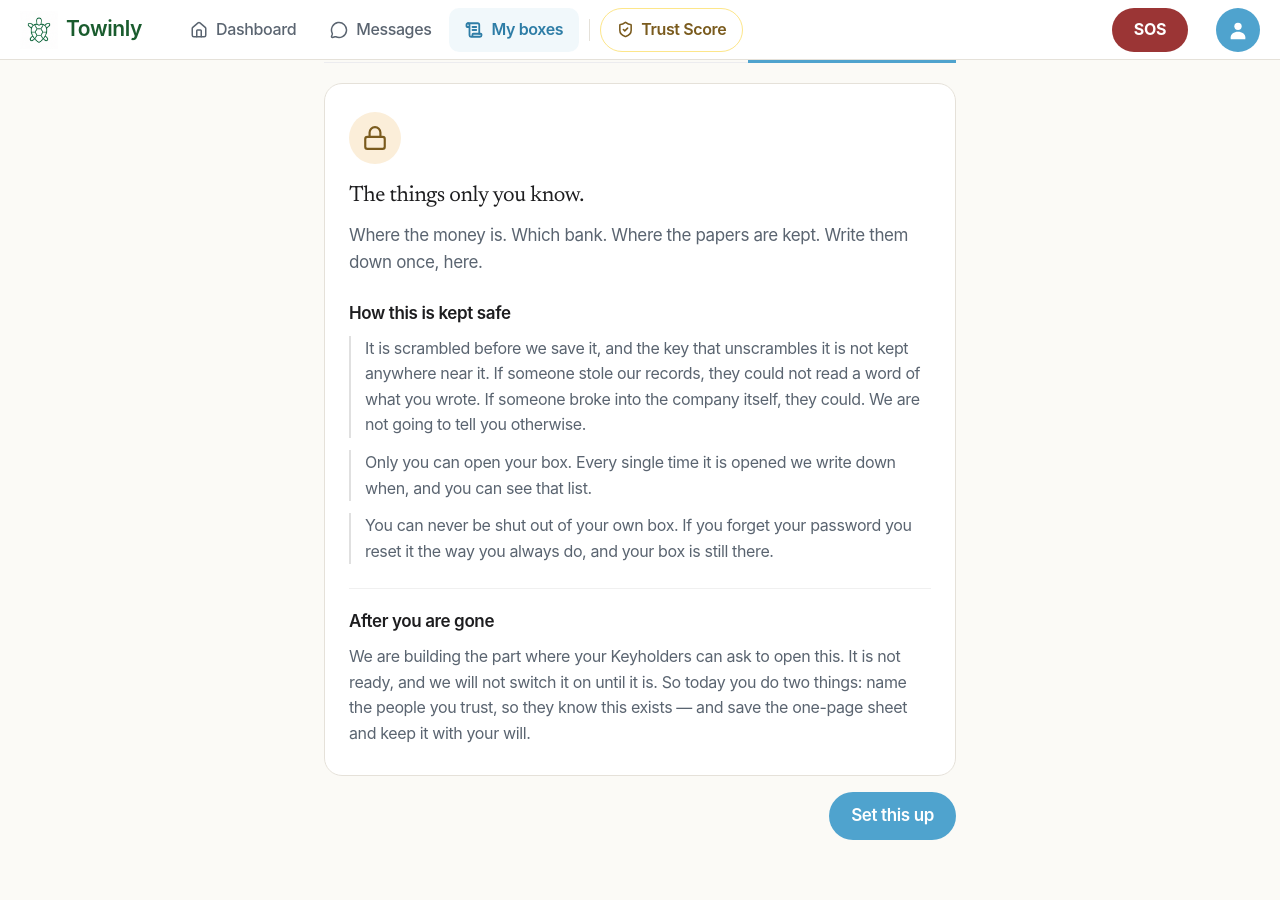
Test: setting the Sealed box up › says the number back to her in real names, and never as an example
(page scrolled)
expect the heading "The things only you know." is shown: met, box [349, 185, 584, 207]
Click the button "Set this up": (893, 816) [829, 792, 956, 840]
(page scrolled)
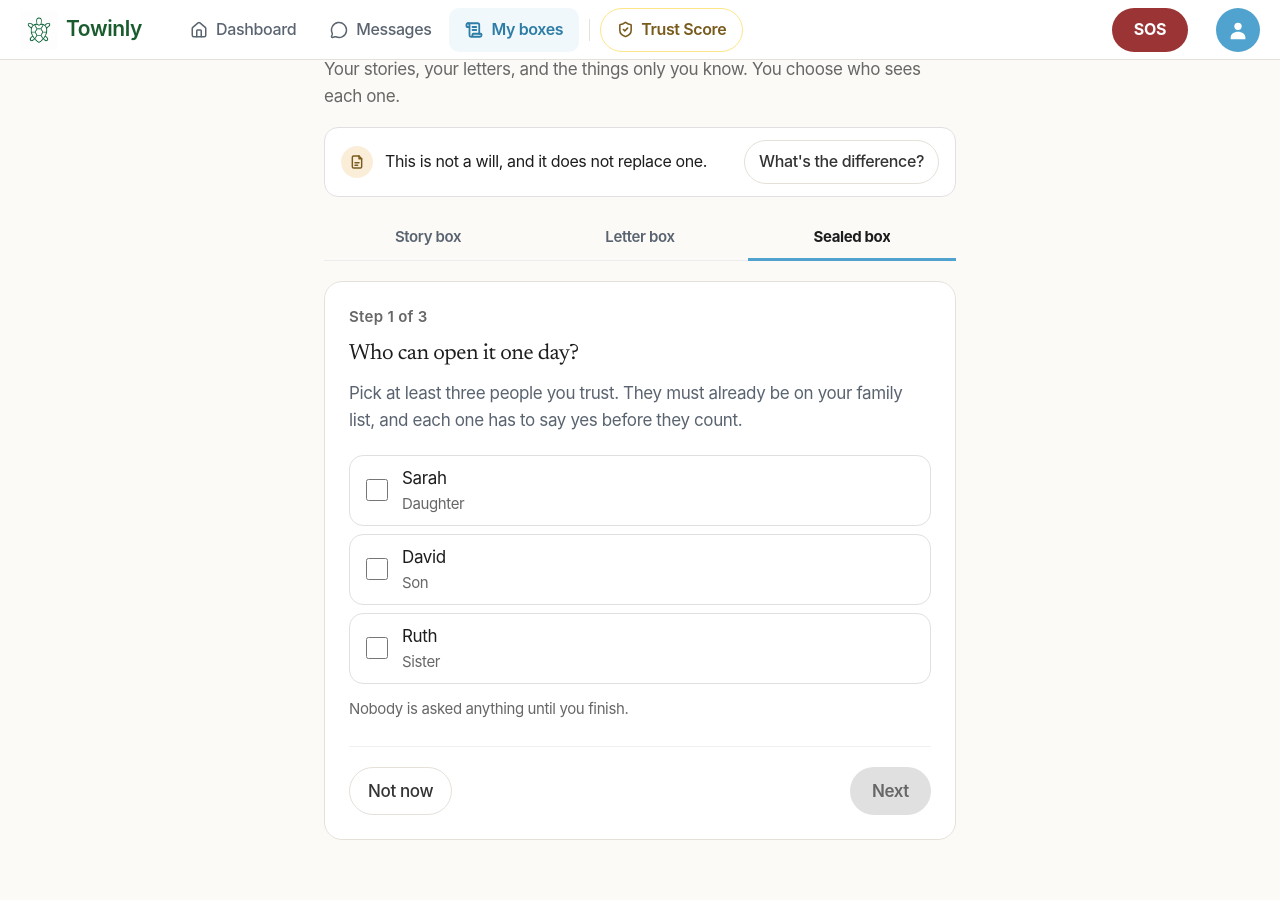
expect the heading "Who can open it one day?" is shown: met, box [349, 343, 579, 365]
Click the checkbox labelled "Sarah Daughter": (377, 490) [366, 479, 388, 501]
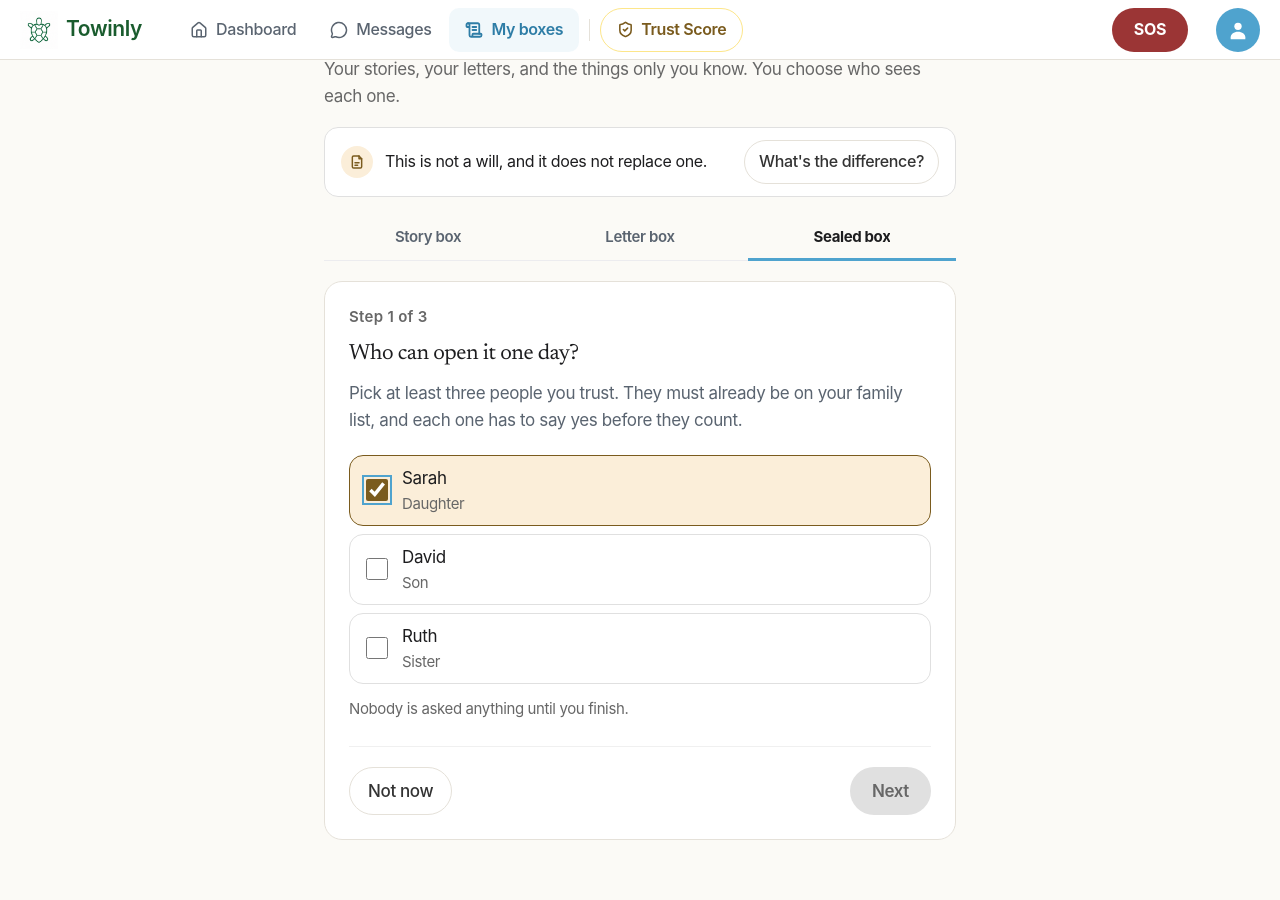
Click the checkbox labelled "David Son": (377, 569) [366, 558, 388, 580]
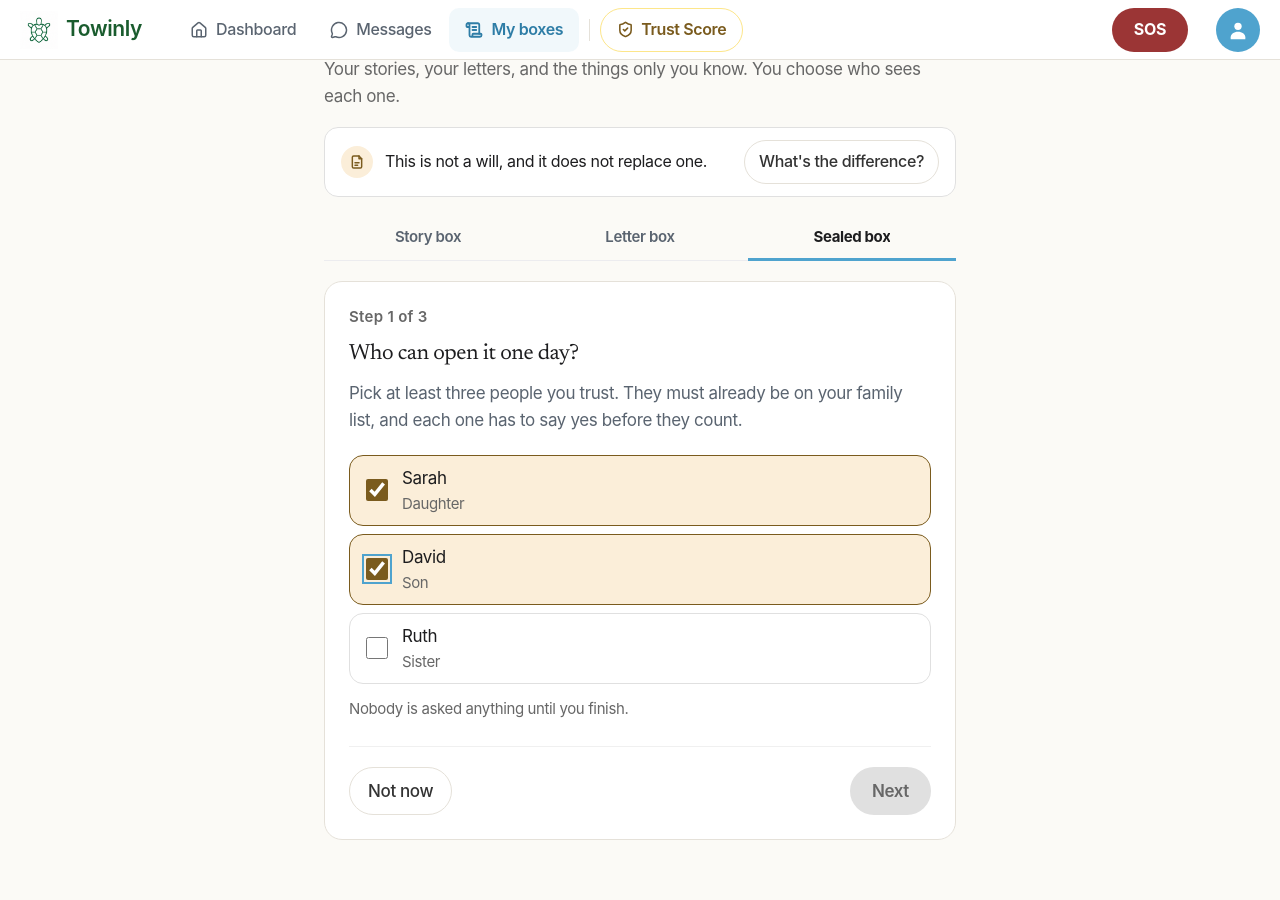
Click the checkbox labelled "Ruth Sister": (377, 648) [366, 637, 388, 659]
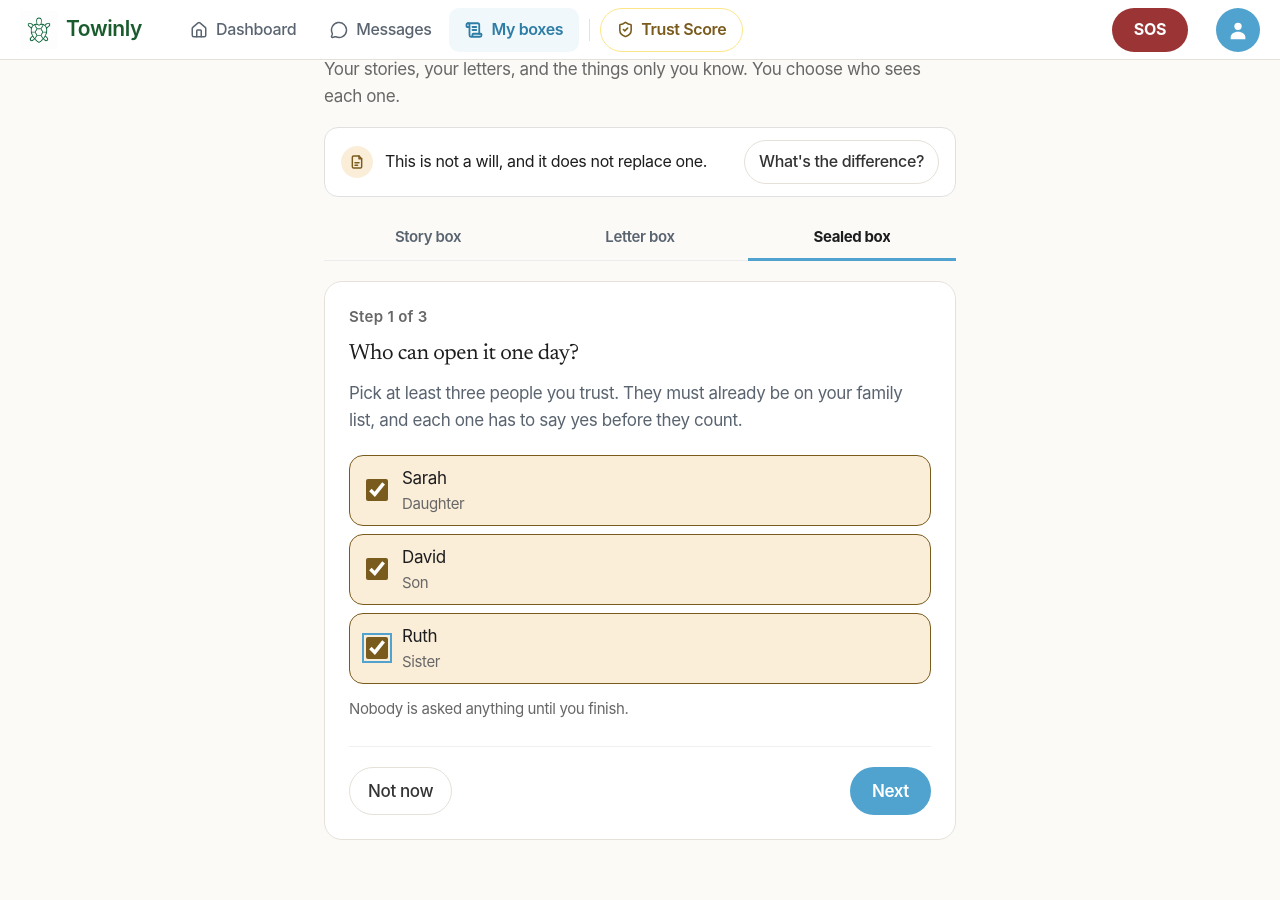
Click the button "Next": (890, 791) [850, 767, 931, 815]
(page scrolled)
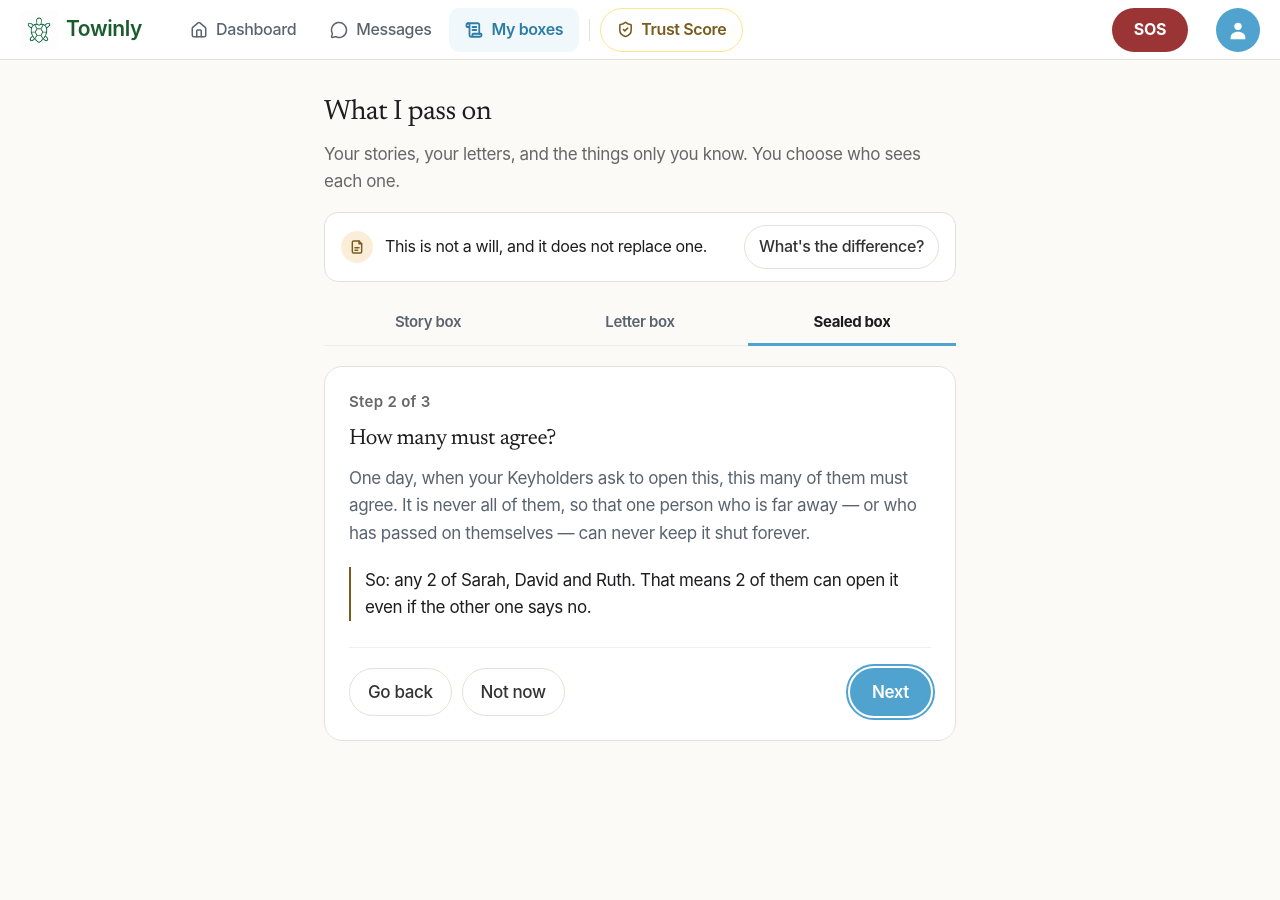
expect the heading "How many must agree?" is shown: met, box [349, 428, 556, 450]
expect the text "So: any 2 of Sarah, David and Ruth. That means 2 of them can open it even if the other one says no." is shown: met, box [365, 570, 898, 617]
